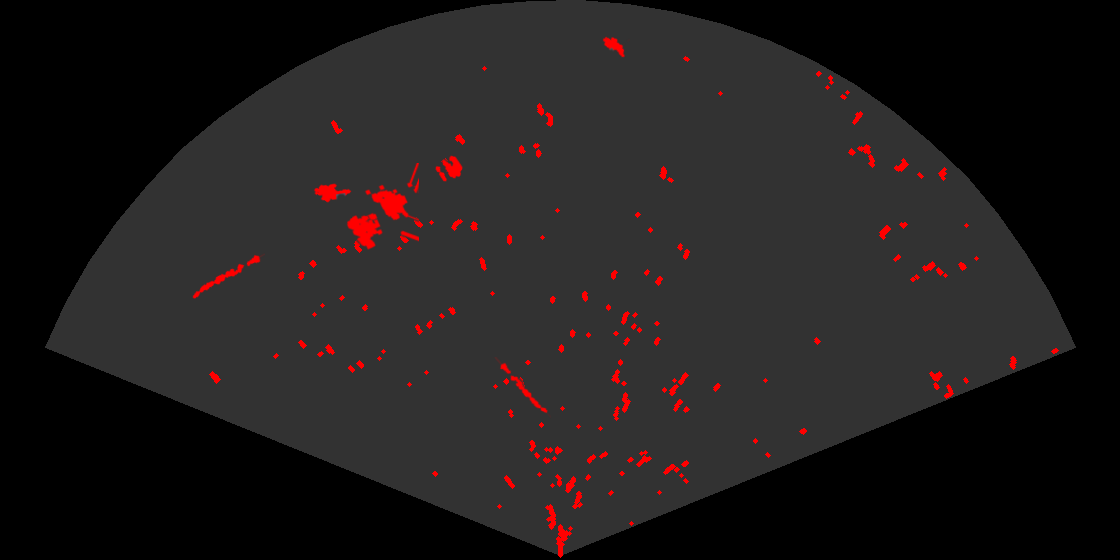AUV: (312, 182, 353, 204), (601, 35, 630, 59)
ball: (434, 154, 464, 183)
cage: (345, 163, 419, 251)
chain: (493, 357, 551, 419), (191, 252, 265, 300)
